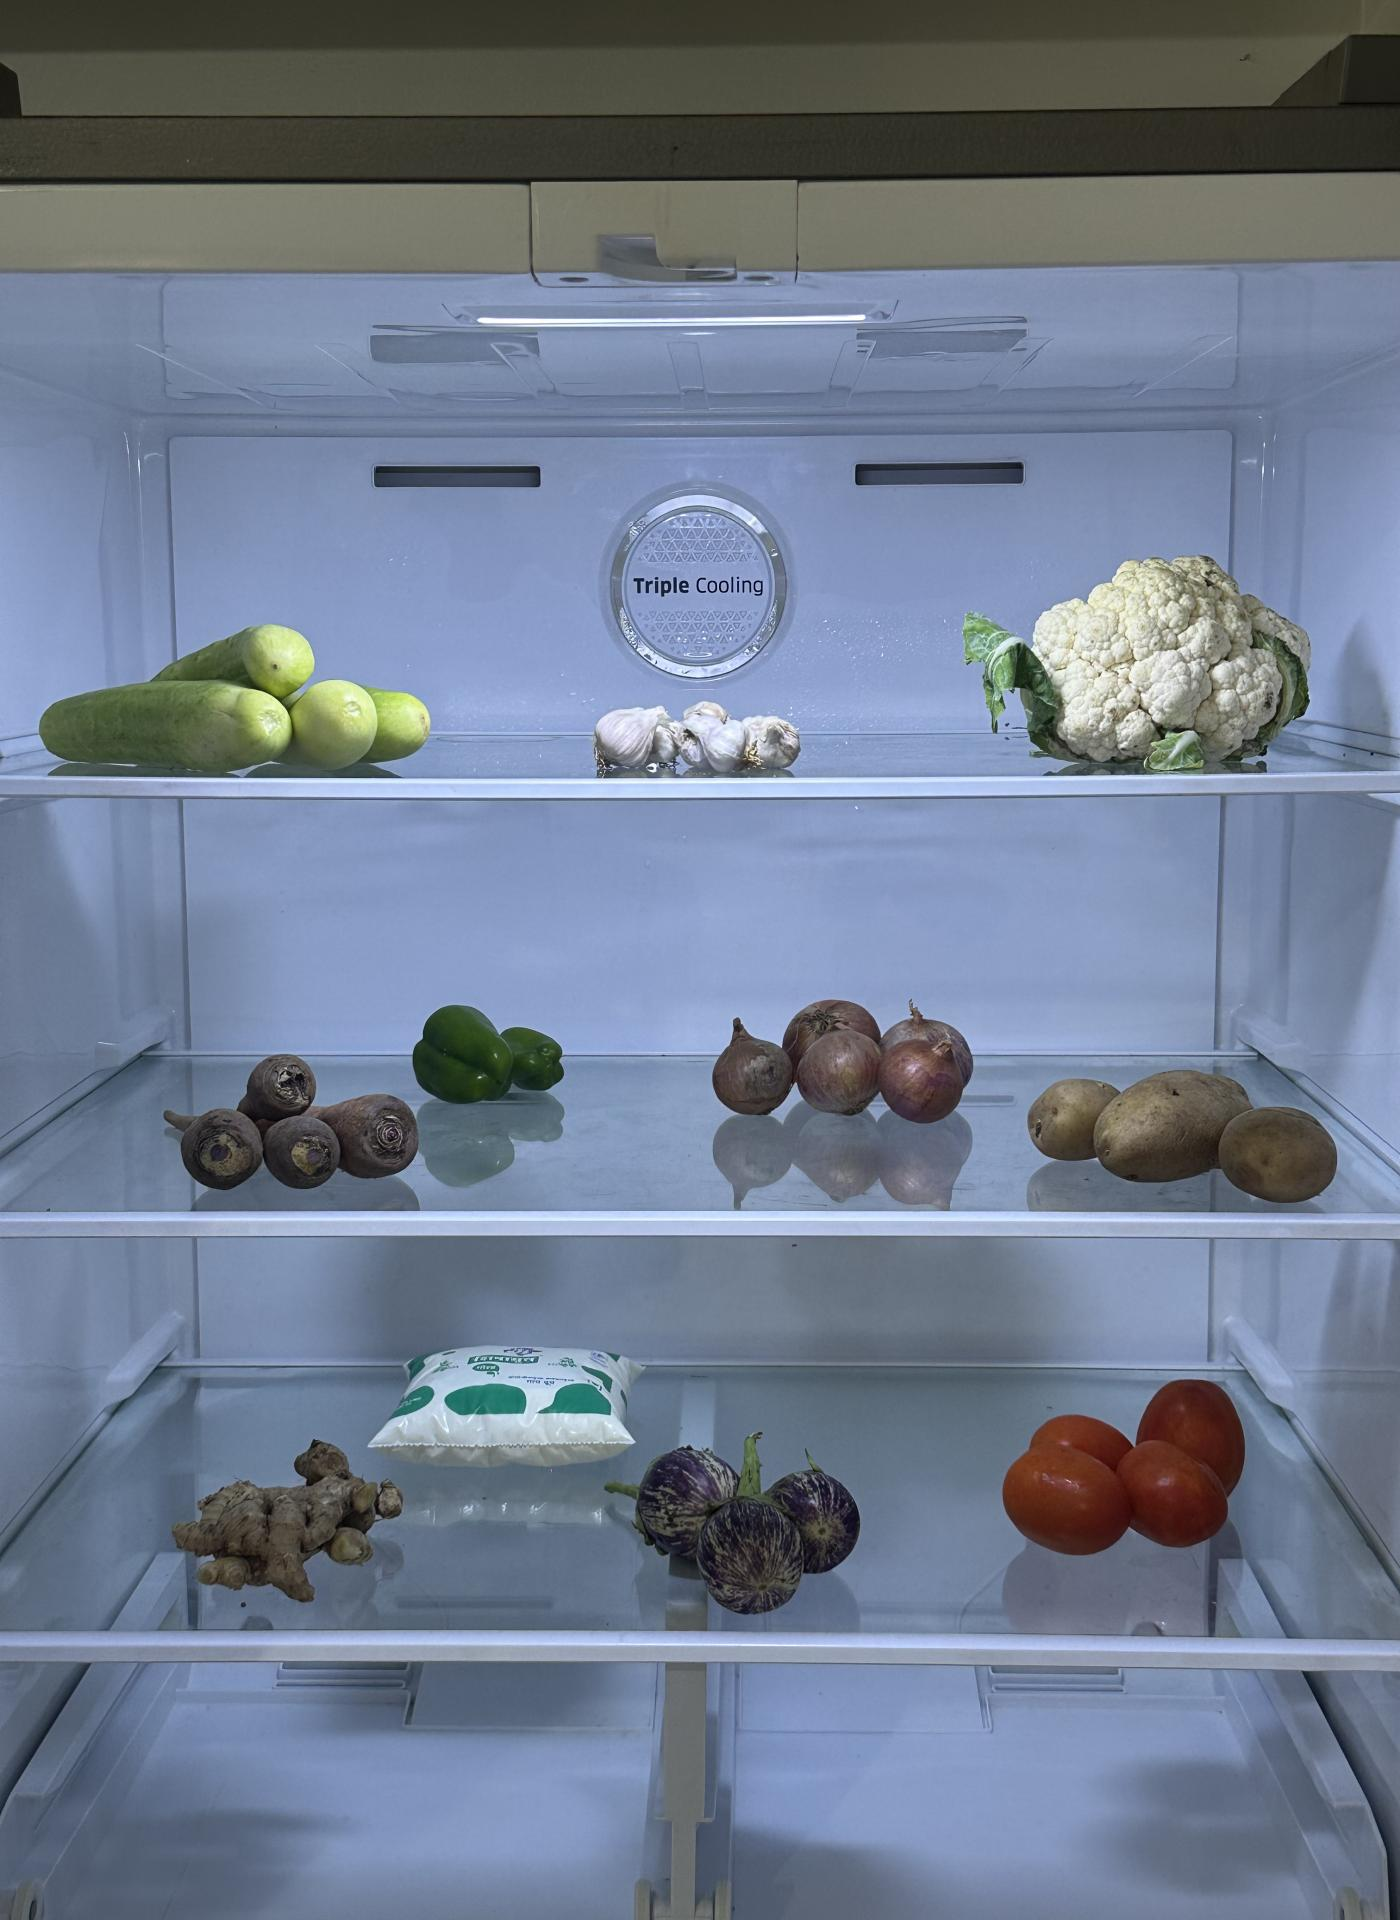brinjal: (644, 1440, 866, 1616)
capsicum: (403, 1000, 564, 1111)
carrots: (171, 1043, 426, 1188)
cauliflower: (1021, 549, 1319, 763)
cucumber: (37, 628, 434, 803)
garlic: (589, 692, 805, 777)
ginger: (177, 1441, 395, 1605)
milk: (371, 1334, 634, 1461)
onion: (711, 996, 983, 1124)
potato: (1026, 1055, 1340, 1203)
tomato: (997, 1376, 1248, 1558)
